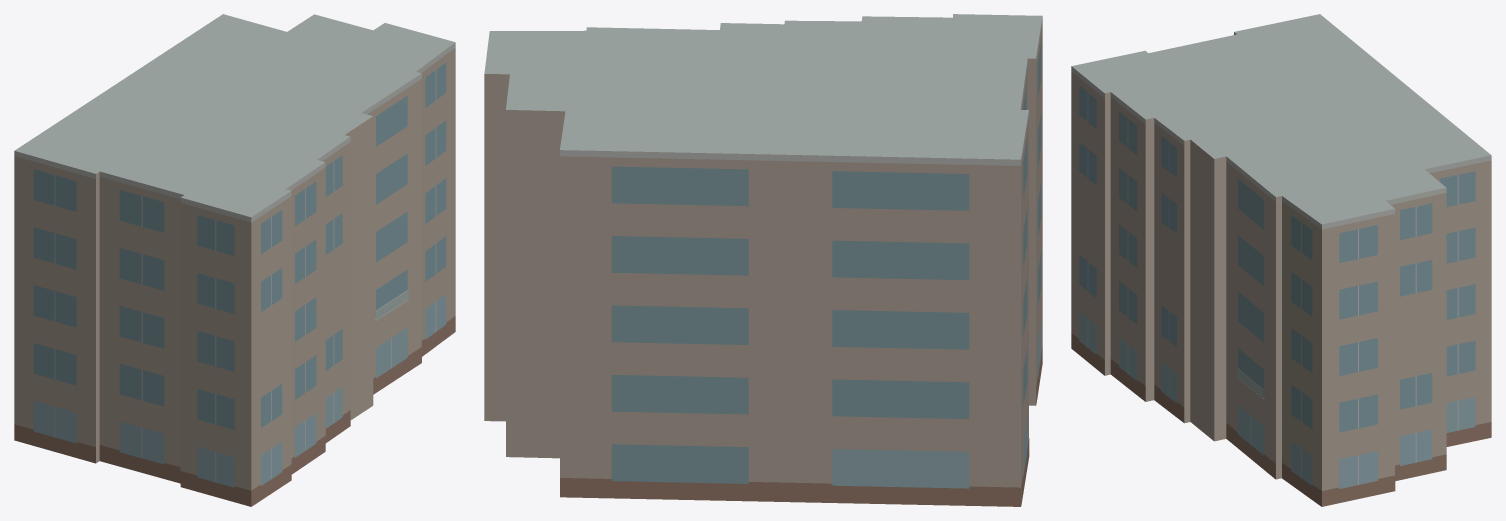
File: survey-upis-32579727.glb
The picture shows the model from 3 angles, left to right: view 1: azimuth 30°, elevation 25°; view 2: azimuth 150°, elevation 25°; view 3: azimuth 270°, elevation 25°; orthographic projection. The views are drawn at different scales.
Visible parts, largest first — view 1: survey-upis-32579727.tmp; view 2: survey-upis-32579727.tmp; view 3: survey-upis-32579727.tmp.
Part boxes in pixels (box(x1,y1,x2,y2)): survey-upis-32579727.tmp: box(14, 14, 455, 506); survey-upis-32579727.tmp: box(484, 14, 1042, 506); survey-upis-32579727.tmp: box(1071, 14, 1491, 506).
Bounding box in the file's own units: 21.59 × 13.5 × 18.21.
